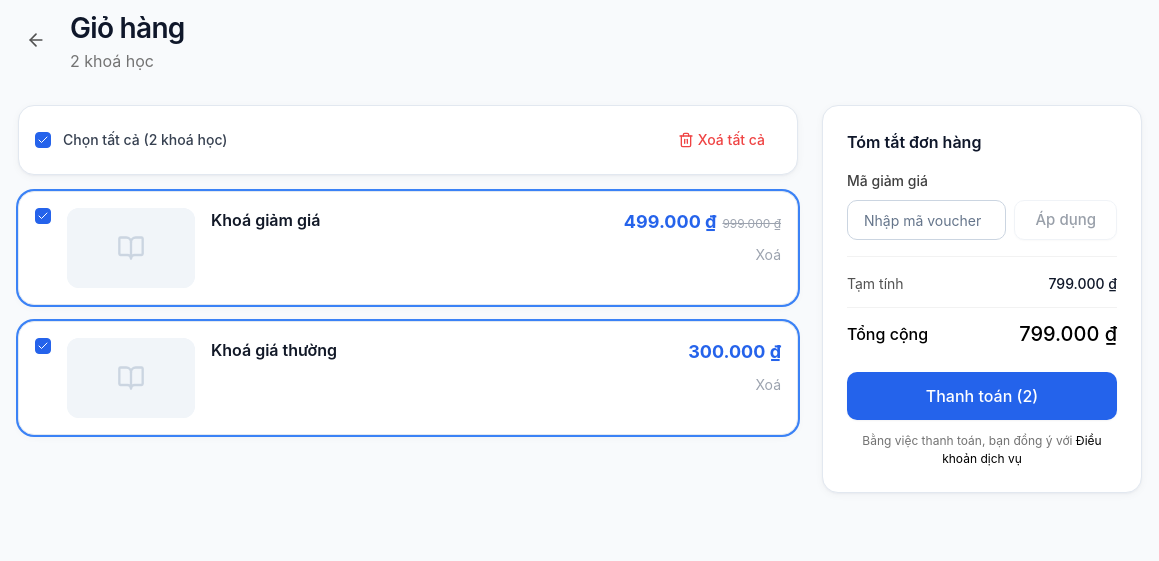
CartPage — voucher sống sót khi chọn khoá (A-04) › chọn khoá làm đơn không đủ điều kiện tối thiểu: gỡ voucher, hiện lý do, link không còn voucher
Type "BIG500" into the field with placeholder "Nhập mã voucher" at (927, 220), box [847,200,1006,240]
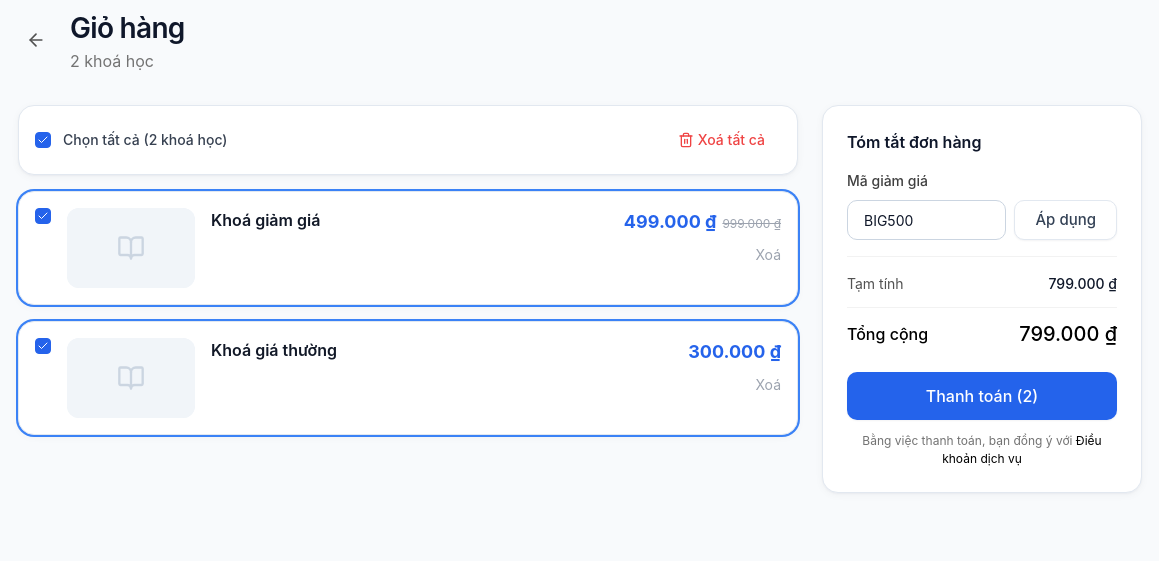
Click the button "Áp dụng" at (1066, 220), box [1014,200,1117,240]
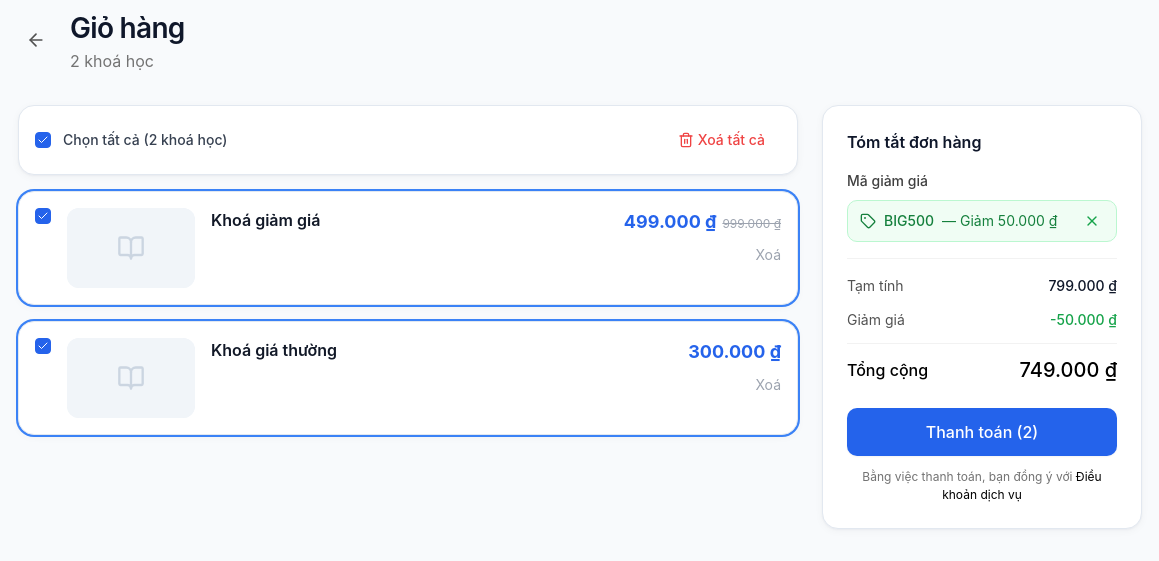
Expected: the button named "Xoá voucher" is shown, [1080,209,1104,233]
Click the checkbox named "Chọn Khoá giảm giá" at (43, 216), box [35,208,51,224]
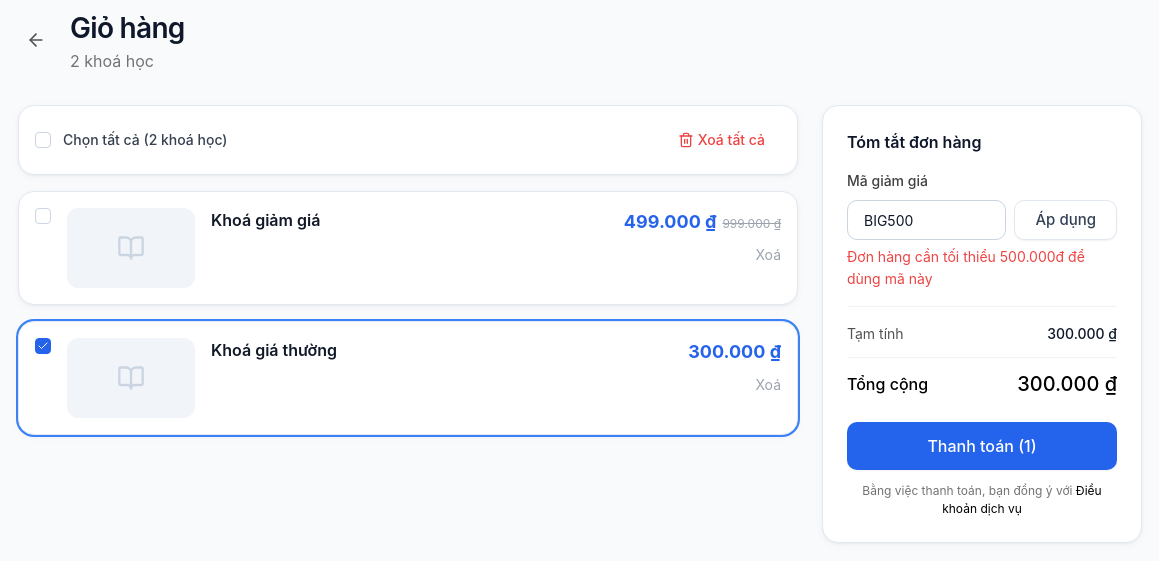
Expected: the text "Đơn hàng cần tối thiểu 500.000đ để dùng mã này" is shown, [847,246,1117,290]
